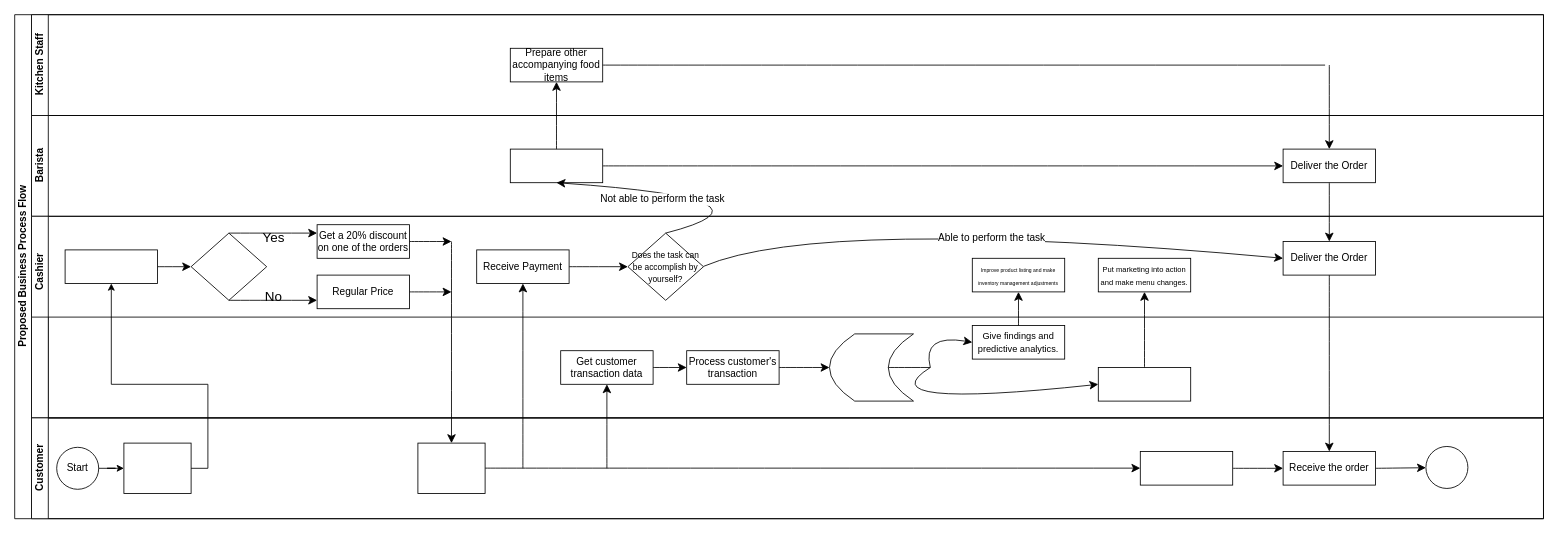
Image size: 1567x533. Some labels were removed from this diagram. Here are the shapes that lost their labels. From the top down, the box of each, then its label:
(509, 148, 603, 183): Prepare the order
(64, 249, 158, 284): Take Order
(190, 232, 267, 300): Is customer valid for discount?
(31, 316, 1544, 418): POS
(829, 333, 914, 401): Store customer's transaction data
(1097, 367, 1191, 401): Examine transaction data to look for patterns and trends.
(123, 442, 191, 494): Order Food
(417, 442, 485, 494): Payment
(1139, 451, 1233, 485): Wait for the order
(1425, 446, 1468, 488): End
